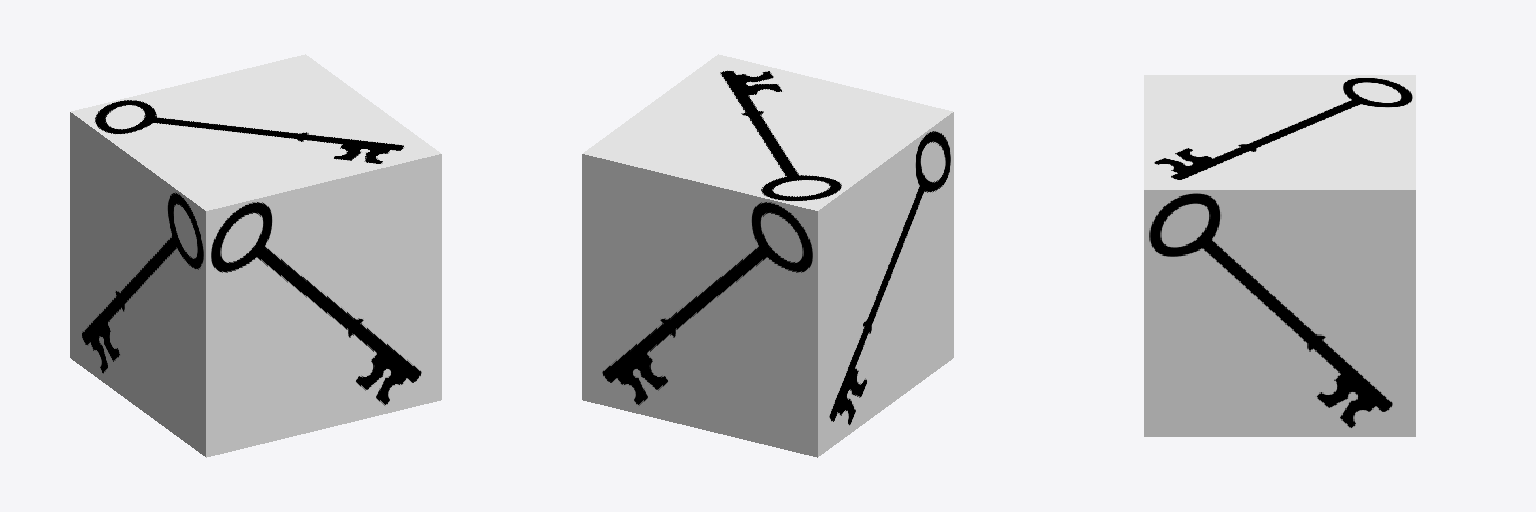
3 views of the same model, side by side, from view 1: azimuth 30°, elevation 25°; view 2: azimuth 150°, elevation 25°; view 3: azimuth 270°, elevation 25° (orthographic).
Visible parts, largest first — view 1: pCube1; view 2: pCube1; view 3: pCube1.
Boxes of the visible parts, box(x1,y1,x2,y2) form: pCube1: box(70, 54, 441, 457); pCube1: box(582, 54, 953, 457); pCube1: box(1144, 75, 1415, 436).
Bounding box in the file's own units: 2 × 2 × 2.
1 materials, 1 textured.